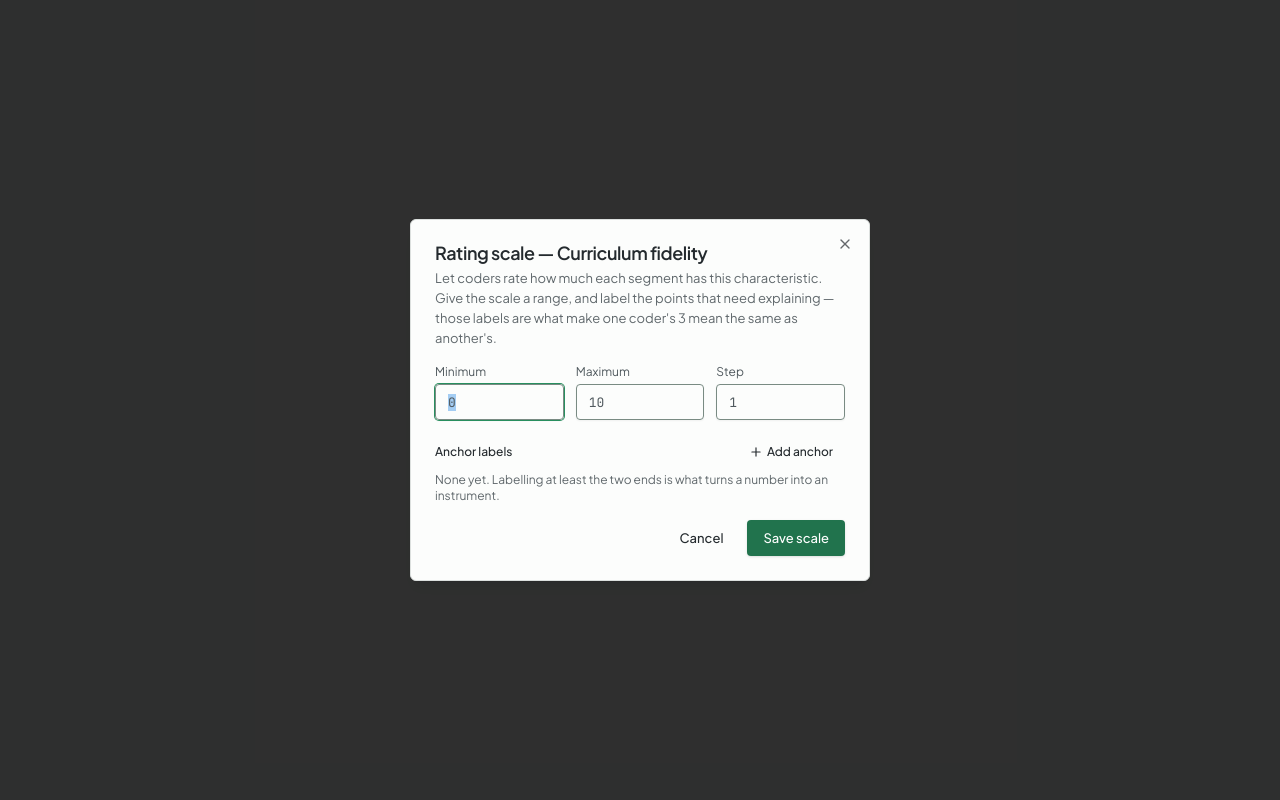
it: MagnitudeScaleDialog — what the declaration will mean (#1113/#1114) › names an anchor row that will not be saved, rather than dropping it in silence
Click the button "Add anchor": [791, 452] box left=737, top=436, right=845, bottom=468
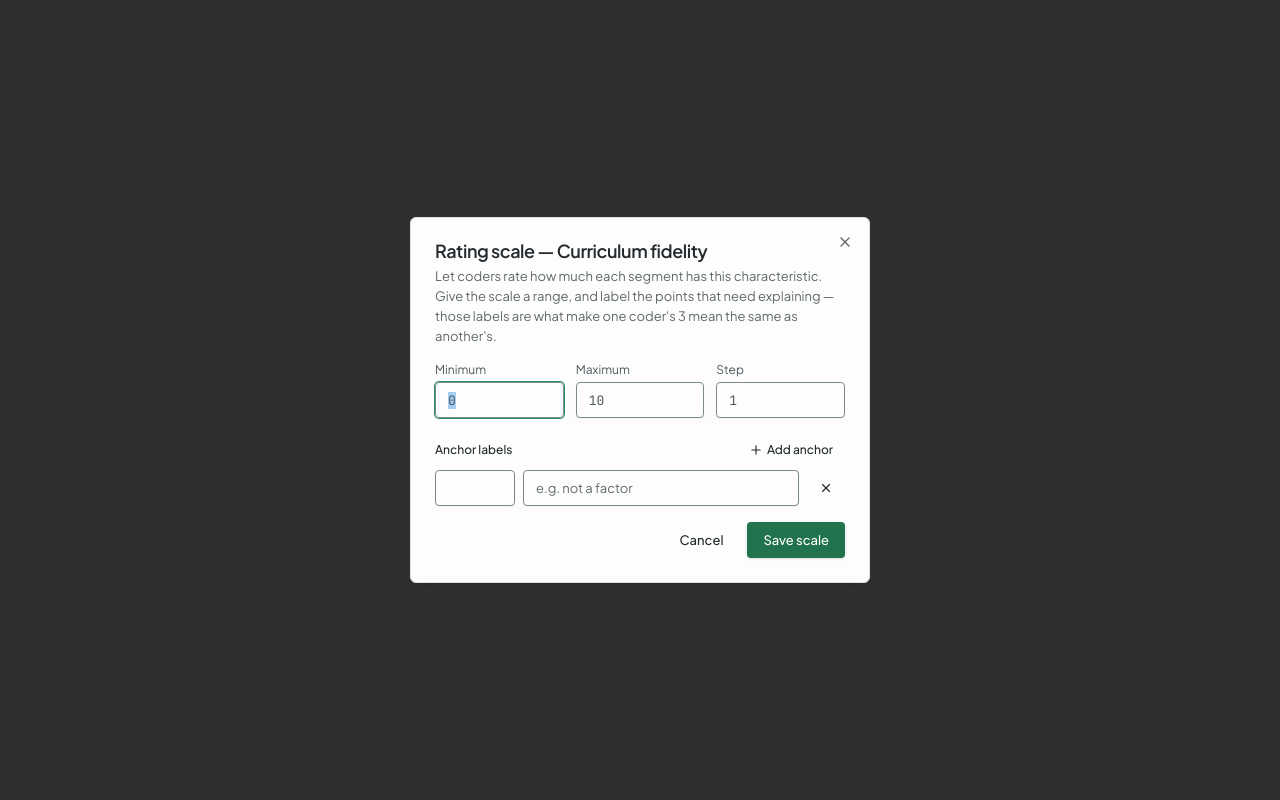
Expected: the text "will not be saved" is not shown
Note: ... a row with a value and no label is.
In the field named "Anchor 1 value": [475, 488] box left=435, top=470, right=515, bottom=506, type "3"
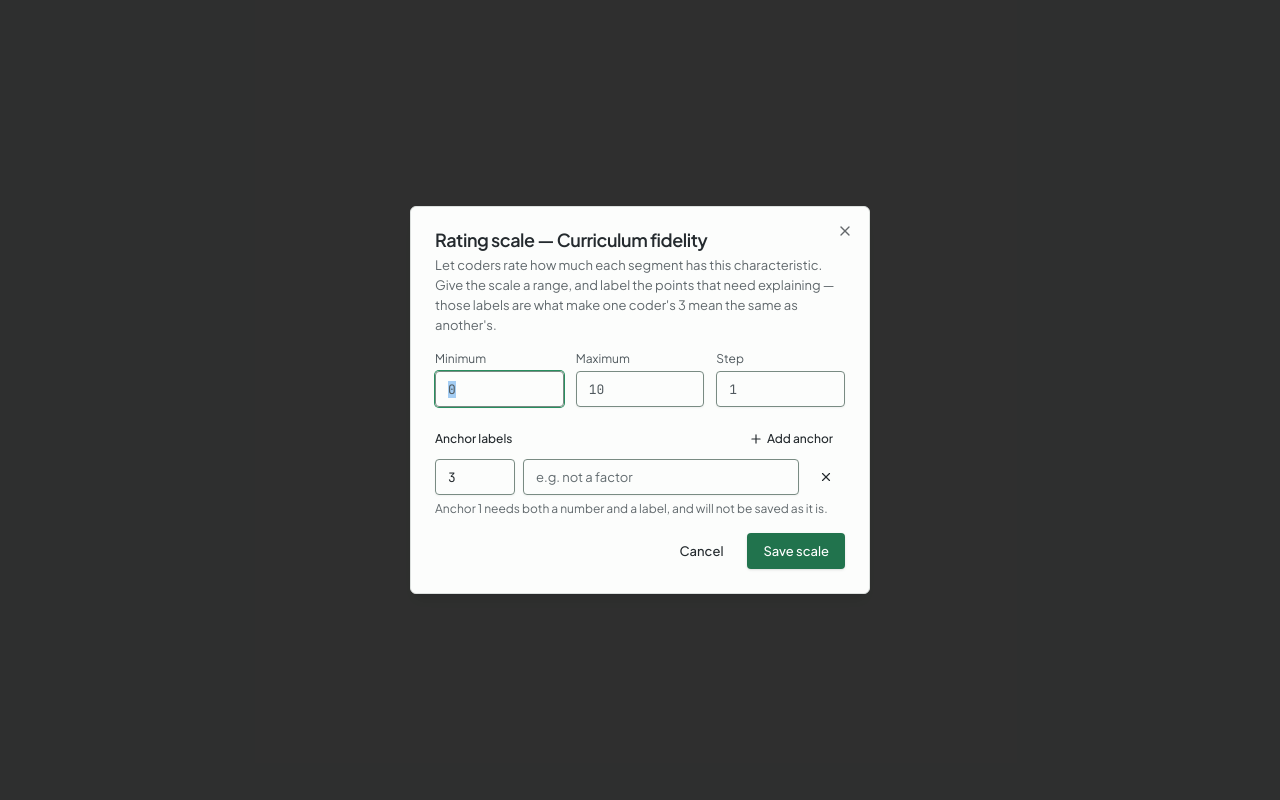
Expected: the text "Anchor 1 needs both a number and a label, and will not be saved as it is." is shown, left=435, top=501, right=845, bottom=517
In the field named "Anchor 1 label": [661, 477] box left=523, top=459, right=799, bottom=495, type "some"
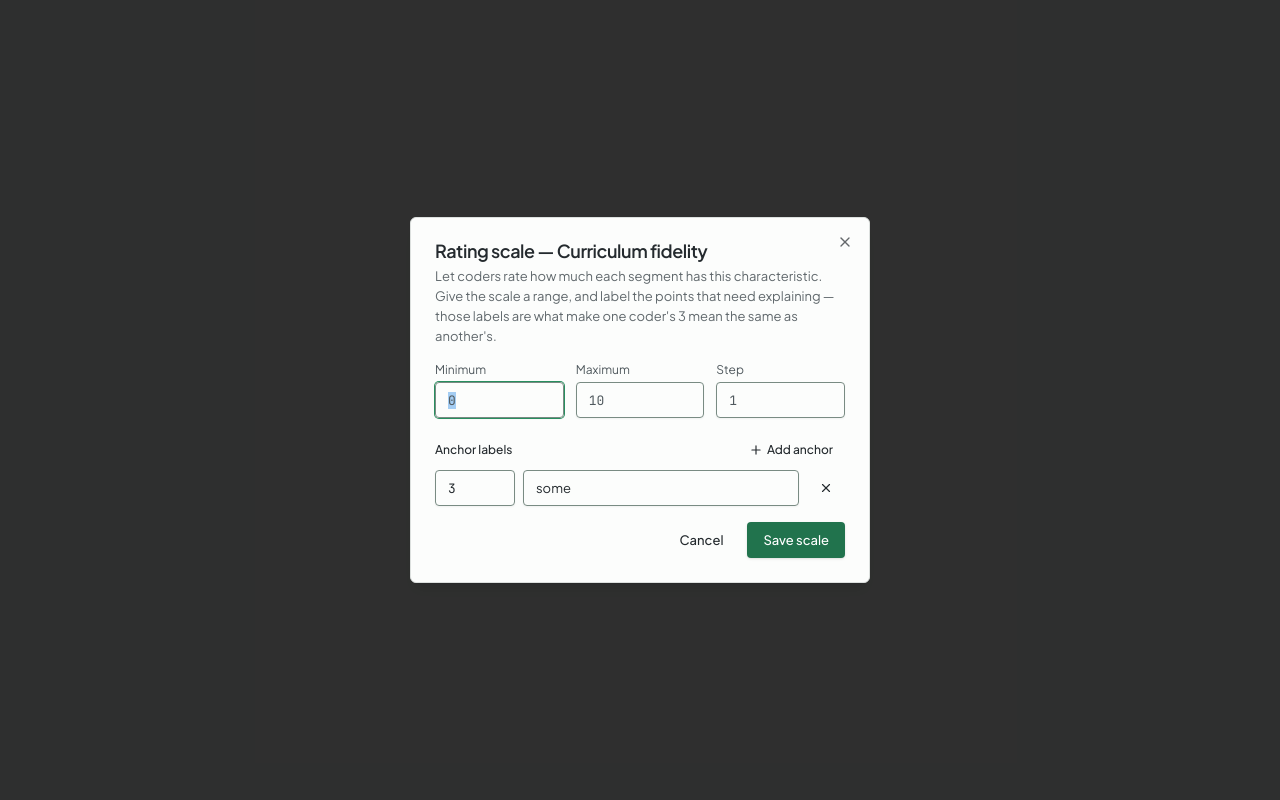
Expected: the text "will not be saved" is gone
